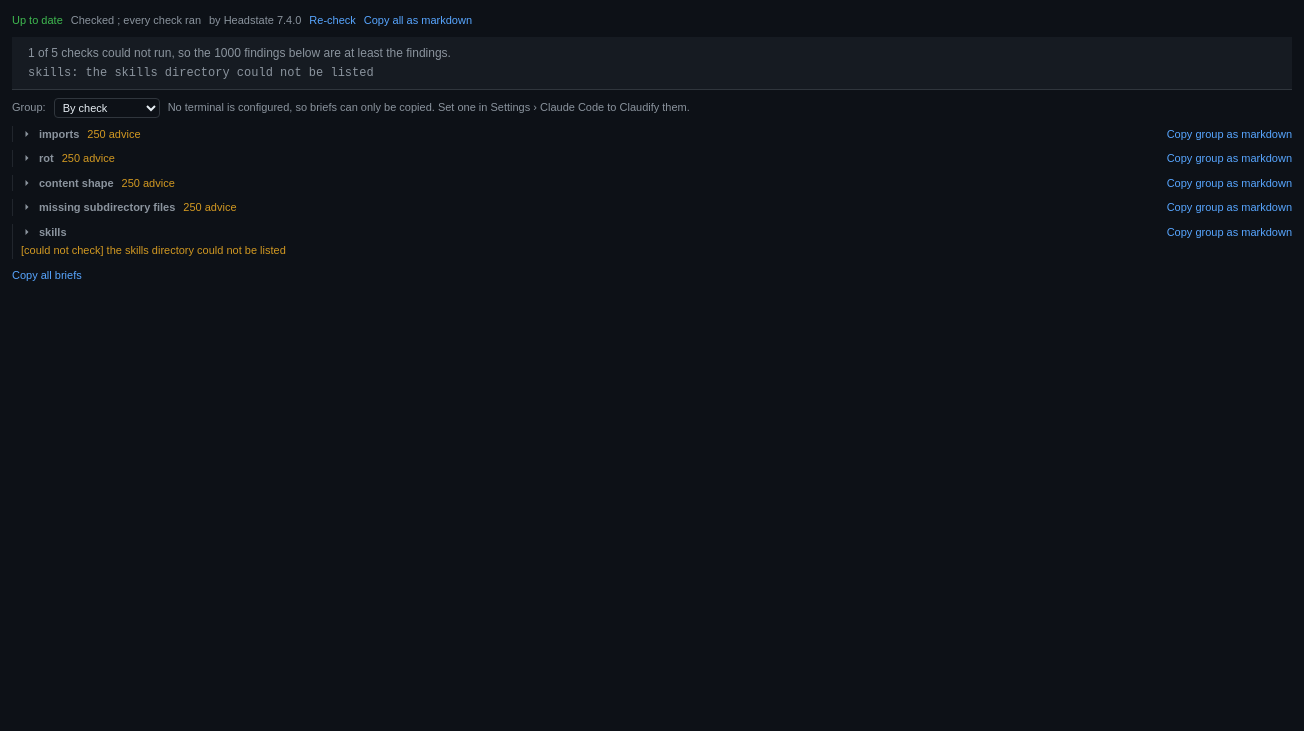
Test: ClaudeMdAdvicePanel › opens a long report with every group collapsed
The width and height of the screenshot is (1304, 731).
Click the button "rot 250 advice" at [88, 158], box [21,150,1148,166]
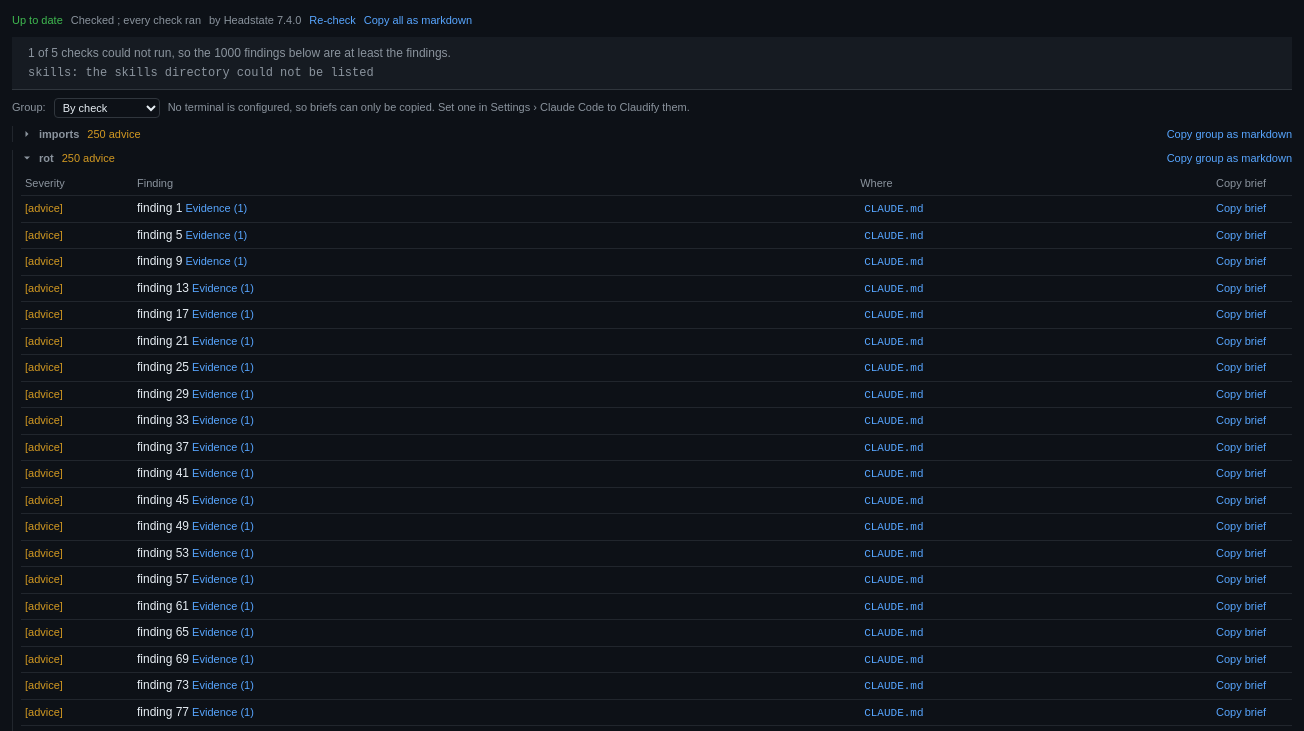
Check: the button "rot 250 advice" is expanded, box [21,150,1148,166]
Check: the text "finding 1" is shown, box [137,201,182,215]
